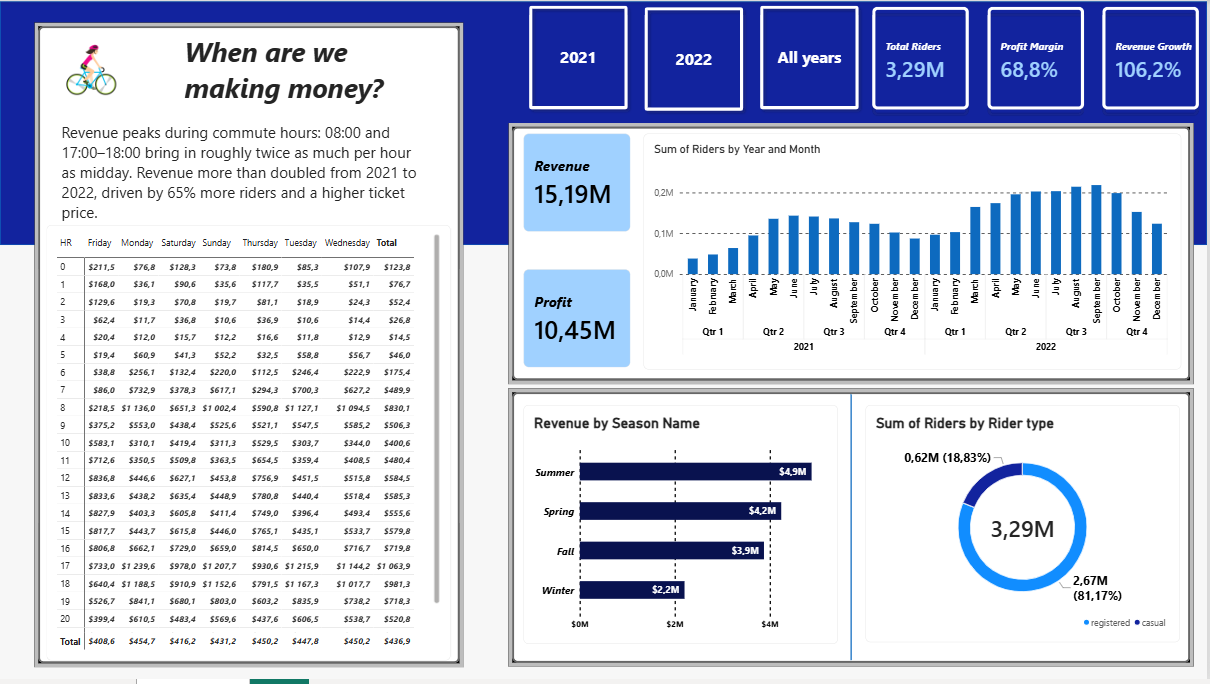

The dashboard page shown, as its layout file describes it:
{"tool":"powerbi","page":{"name":"Page 1","canvas":[1920,1080],"ordinal":0},"visuals":[{"type":"shape","box":[0,2.5,1920,387.5],"z":0},{"type":"cardVisual","fields":{"Data":["Sum(Query1.RIDERS)"]},"box":[55,35,682.5,1025],"z":1000},{"type":"cardVisual","fields":{"Data":["Sum(Query1.RIDERS)"]},"box":[810,617.5,1090,442.5],"z":2000},{"type":"image","box":[75,10,142.5,202.5],"z":3000},{"type":"pivotTable","fields":{"Columns":["Query1.Day Name"],"Rows":["Query1.HR"],"Values":["Avg(Query1.REVENUE)"]},"box":[75,357.5,642.5,692.5],"z":4000},{"type":"cardVisual","fields":{"Data":["Sum(Query1.RIDERS)"]},"box":[810,195,1090,415],"z":5000},{"type":"lineClusteredColumnComboChart","title":"Sum of Riders by Year and Month","fields":{"Category":["Query1.DTEDAY.Variation.Date Hierarchy.Year","Query1.DTEDAY.Variation.Date Hierarchy.Quarter","Query1.DTEDAY.Variation.Date Hierarchy.Month"],"Y":["Sum(Query1.RIDERS)"]},"box":[1022.5,212.5,855,375],"z":6000},{"type":"textbox","box":[97.5,192.5,570,165],"z":7000},{"type":"textbox","box":[292.5,52.5,405,122.5],"z":8000},{"type":"barChart","fields":{"Category":["Query1.Season Name"],"Y":["Sum(Query1.REVENUE)"]},"box":[832.5,645,500,380],"z":9000},{"type":"donutChart","fields":{"Category":["Query1.RIDER_TYPE"],"Y":["Sum(Query1.RIDERS)"]},"box":[1377.5,645,500,377.5],"z":10000},{"type":"shape","box":[1332.5,627.5,45,422.5],"z":11000},{"type":"cardVisual","fields":{"Data":["Query1.Revenue","Query1.Profit"]},"box":[832.5,212.5,170,372.5],"z":12000},{"type":"cardVisual","fields":{"Data":["Sum(Query1.RIDERS)","Query1.Profit Margin","Query1.Revenue Growth %"]},"box":[1377.5,0,542.5,185],"z":13000},{"type":"actionButton","box":[1200,0,174.5,182.7],"z":16002},{"type":"actionButton","box":[1017.1,2.9,174.5,182.7],"z":16003},{"type":"actionButton","box":[832.9,0,174.5,182.7],"z":16004}]}

Visuals, with their boxes in screenshot pixels (x1, y1, x2, y2), scaled from the page's 1920x1080 canvas onto the 1210x684 screenshot:
shape: 0,2,1209,247
cardVisual - Sum(Query1.RIDERS): 35,22,465,671
cardVisual - Sum(Query1.RIDERS): 510,391,1197,671
image: 47,6,137,135
pivotTable - Query1.Day Name x Query1.HR: 47,226,452,665
cardVisual - Sum(Query1.RIDERS): 510,124,1197,386
"Sum of Riders by Year and Month" lineClusteredColumnComboChart: 644,135,1183,372
textbox: 61,122,421,226
textbox: 184,33,440,111
barChart - Query1.Season Name x Sum(Query1.REVENUE): 525,408,840,649
donutChart - Query1.RIDER_TYPE x Sum(Query1.RIDERS): 868,408,1183,648
shape: 840,397,868,665
cardVisual - Query1.Revenue x Query1.Profit: 525,135,632,370
cardVisual - Sum(Query1.RIDERS) x Query1.Profit Margin: 868,0,1209,117
actionButton: 756,0,866,116
actionButton: 641,2,751,118
actionButton: 525,0,635,116
